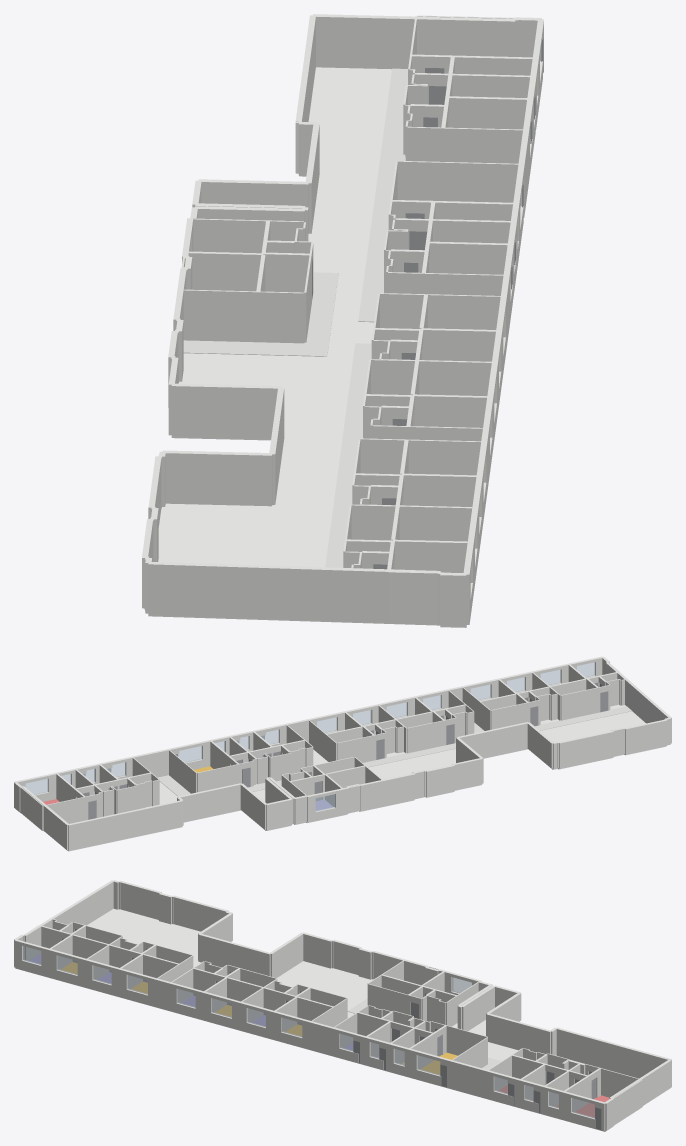
File: D3_large_shop_152418_it2.glb
The picture shows the model from 3 angles, top to bottom: view 1: azimuth 30°, elevation 25°; view 2: azimuth 150°, elevation 25°; view 3: azimuth 270°, elevation 25°; orthographic projection. The views are drawn at different scales.
Parts seen in each view (by area): view 1: geometry_3, geometry_0, geometry_1, geometry_11; view 2: geometry_3, geometry_0, geometry_10, geometry_1, geometry_11; view 3: geometry_3, geometry_0, geometry_10, geometry_11, geometry_8, geometry_7.
Part boxes in pixels (x1,y1,x2,y2): geometry_3: (142, 14, 543, 626); geometry_0: (145, 67, 466, 627); geometry_1: (183, 68, 407, 567); geometry_11: (312, 38, 543, 569); geometry_3: (14, 656, 671, 850); geometry_0: (20, 704, 670, 851); geometry_10: (25, 662, 595, 811); geometry_1: (158, 706, 631, 796); geometry_11: (77, 683, 608, 819); geometry_3: (14, 880, 671, 1130); geometry_0: (15, 908, 670, 1131); geometry_10: (23, 946, 594, 1118); geometry_11: (61, 929, 601, 1129); geometry_8: (61, 962, 457, 1074); geometry_7: (29, 953, 353, 1050).
Bounding box in the file's own units: 47.85 × 2.85 × 59.43.
